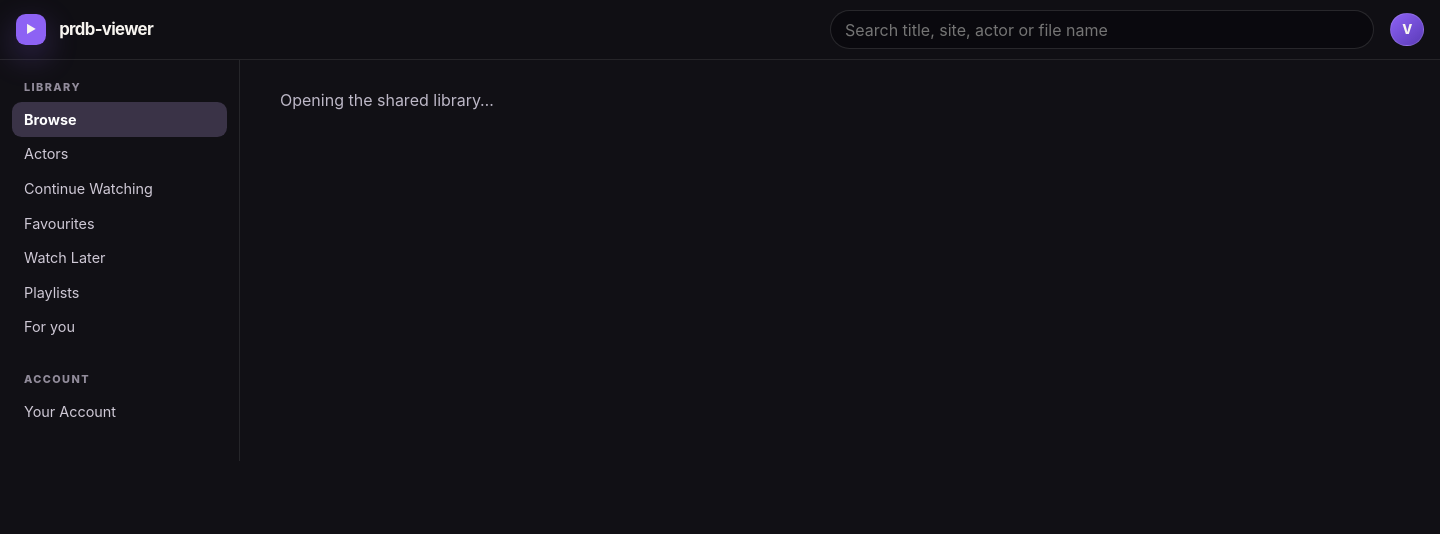
Test case: The application shell › closes the account menu on Escape and hands the focus back
Click the button named "Account: viewer": (1407, 30) 1390,13 -> 1424,46
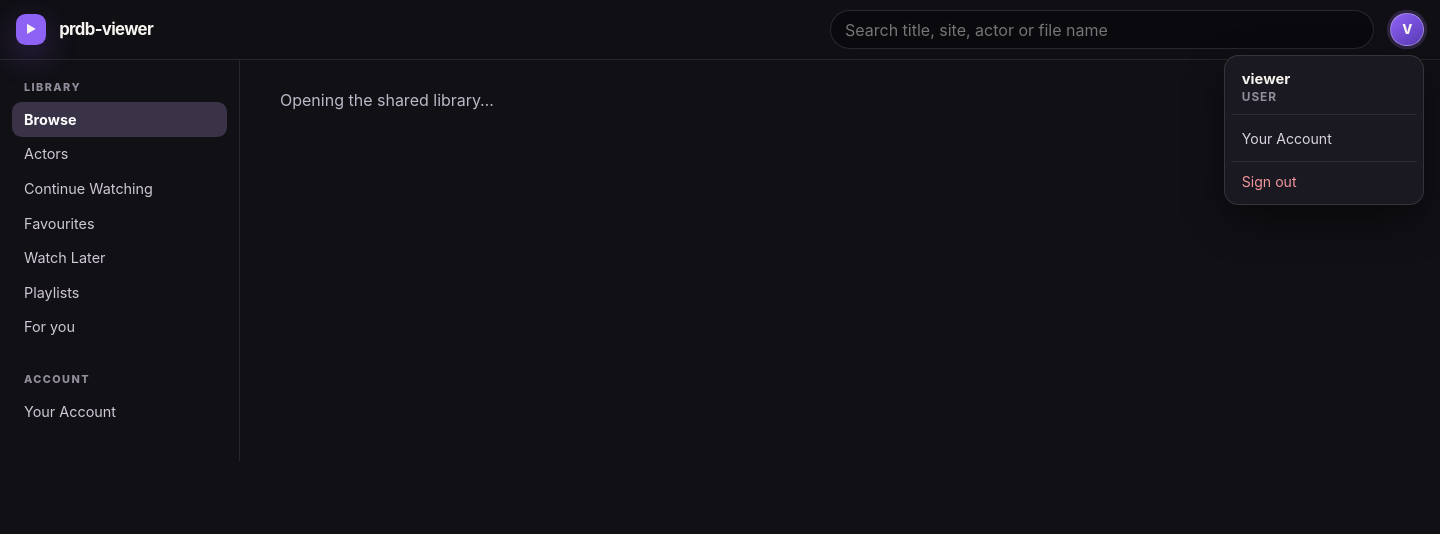
Check: the button "Sign out" is shown, box 1231,161 -> 1417,198
Press Escape
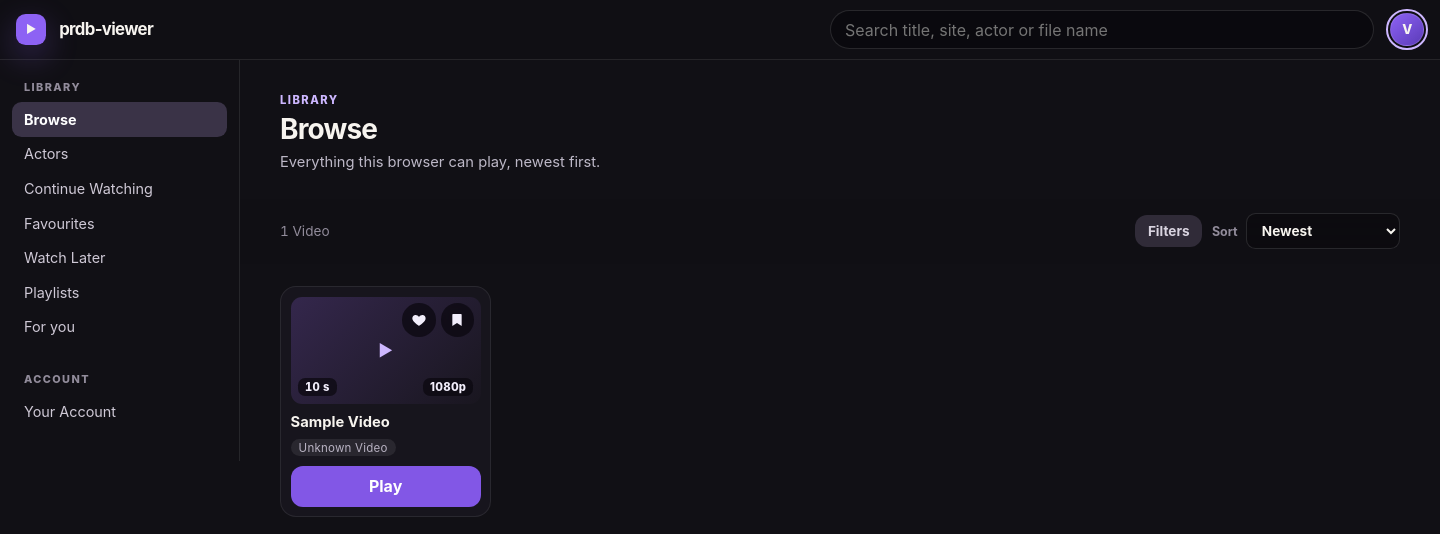
Check: the button "Sign out" is gone
